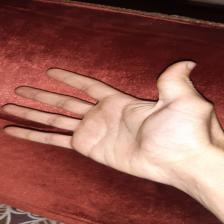five: (0, 61, 213, 176)
